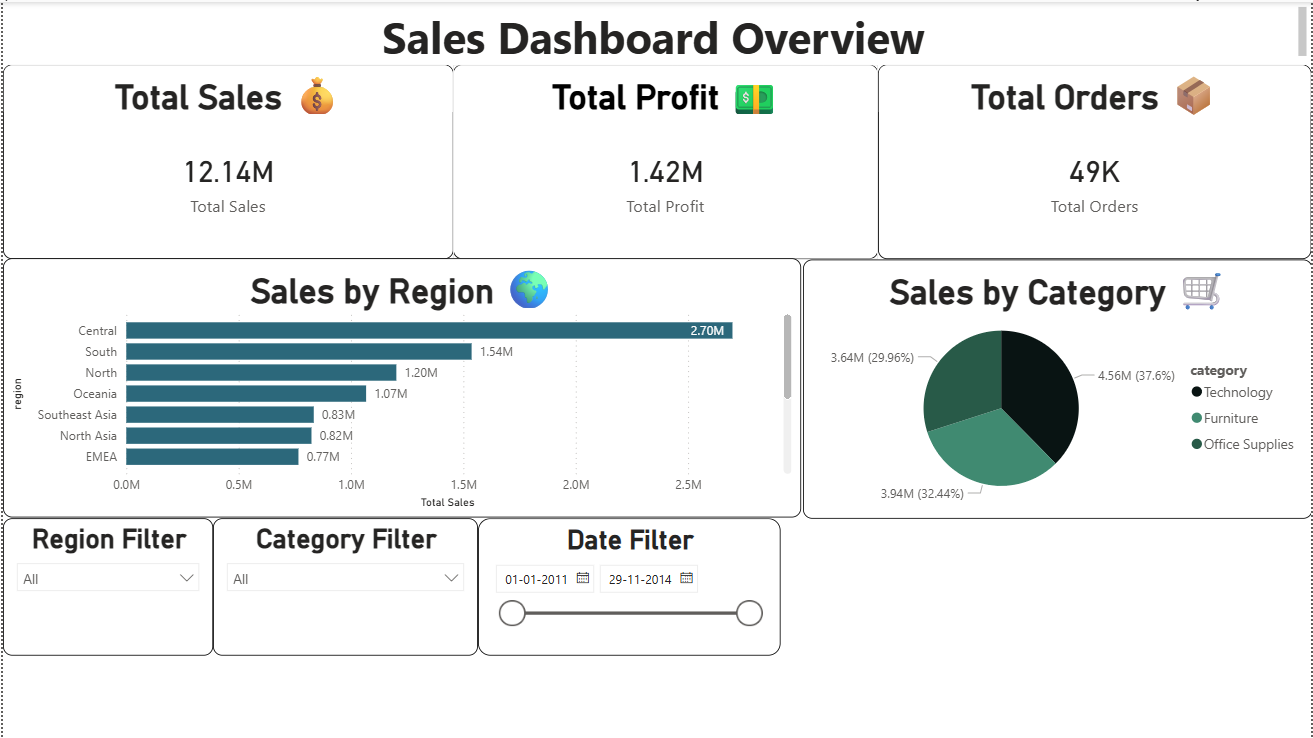

The dashboard page shown, as its layout file describes it:
{"tool":"powerbi","page":{"name":"Overview Dashboard","canvas":[1280,720],"ordinal":0},"visuals":[{"type":"card","title":"Total Sales 💰","fields":{"Values":["Sales_Data.Total Sales"]},"box":[0,61.7,440.5,190.7],"z":0},{"type":"card","title":"Total Profit 💵","fields":{"Values":["Sales_Data.Total Profit"]},"box":[440.5,61.7,415.8,190.7],"z":1000},{"type":"card","title":"Total Orders 📦","fields":{"Values":["Sales_Data.Total Orders"]},"box":[856.3,61.7,424,190.7],"z":2000},{"type":"clusteredBarChart","title":"Sales by Region 🌍","fields":{"Category":["Sales_Data.region"],"Y":["Sales_Data.Total Sales"]},"box":[0,251.1,780.8,253.9],"z":3000},{"type":"pieChart","title":"Sales by Category 🛒","fields":{"Category":["Sales_Data.category"],"Y":["Sales_Data.Total Sales"]},"box":[782.2,252.5,498.1,253.9],"z":4000},{"type":"slicer","title":"Region Filter","fields":{"Values":["Sales_Data.region"]},"box":[0,505,205.8,134.5],"z":5000},{"type":"slicer","title":"Category Filter","fields":{"Values":["Sales_Data.category"]},"box":[205.8,505,259.3,134.5],"z":6000},{"type":"slicer","title":"Date Filter","fields":{"Values":["Sales_Data.order_date"]},"box":[465.2,505,296.4,134.5],"z":7000},{"type":"textbox","box":[0,0,1280.3,61.7],"z":8000}]}

Visuals, with their boxes in screenshot pixels (x1, y1, x2, y2), scaled from the page's 1280x720 canvas onto the 1313x738 screenshot:
"Total Sales 💰" card: {"x1": 0, "y1": 63, "x2": 452, "y2": 259}
"Total Profit 💵" card: {"x1": 452, "y1": 63, "x2": 878, "y2": 259}
"Total Orders 📦" card: {"x1": 878, "y1": 63, "x2": 1312, "y2": 259}
"Sales by Region 🌍" clusteredBarChart: {"x1": 0, "y1": 257, "x2": 801, "y2": 518}
"Sales by Category 🛒" pieChart: {"x1": 802, "y1": 259, "x2": 1312, "y2": 519}
"Region Filter" slicer: {"x1": 0, "y1": 518, "x2": 211, "y2": 655}
"Category Filter" slicer: {"x1": 211, "y1": 518, "x2": 477, "y2": 655}
"Date Filter" slicer: {"x1": 477, "y1": 518, "x2": 781, "y2": 655}
textbox: {"x1": 0, "y1": 0, "x2": 1312, "y2": 63}
